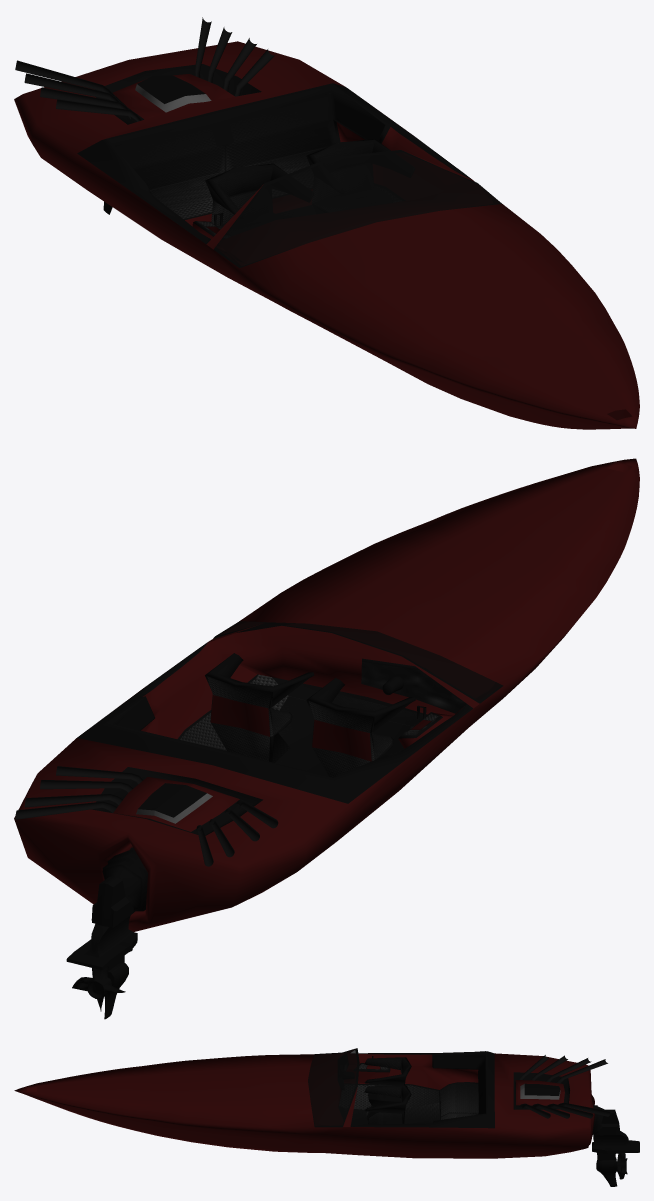
Rendered from sf_myspeedboat.glb.
3 renders of one model, top to bottom at view 1: azimuth 30°, elevation 25°; view 2: azimuth 150°, elevation 25°; view 3: azimuth 270°, elevation 25°, orthographic. The views are drawn at different scales.
Visible parts, largest first — view 1: BoatPChair_Paint2_0, BoatPChair_Seats_0, BoatPChair_ChromeRing_0, BoatWindshield_BoatGlass_0, BoatIOMotor_FlatBlack_0; view 2: BoatPChair_Paint2_0, BoatPChair_ChromeRing_0, BoatIOMotor_FlatBlack_0, BoatPChair_Seats_0, BoatInside_BoatFloor_0, BoatWindshield_BoatGlass_0, BoatInside_Material.015_0; view 3: BoatPChair_Paint2_0, BoatPChair_ChromeRing_0, BoatPChair_Seats_0, BoatWindshield_BoatGlass_0, BoatIOMotor_FlatBlack_0, BoatInside_BoatFloor_0, BoatInside_Material.015_0.
Boxes of the visible parts, x1,y1,x2,y2 form: BoatPChair_Paint2_0: (14,41,639,429); BoatPChair_Seats_0: (114,93,412,237); BoatPChair_ChromeRing_0: (15,17,501,267); BoatWindshield_BoatGlass_0: (215,152,500,266); BoatIOMotor_FlatBlack_0: (95,64,290,218); BoatPChair_Paint2_0: (14,458,639,931); BoatPChair_ChromeRing_0: (15,621,503,1011); BoatIOMotor_FlatBlack_0: (66,676,423,1019); BoatPChair_Seats_0: (116,653,437,777); BoatInside_BoatFloor_0: (180,674,427,776); BoatWindshield_BoatGlass_0: (215,621,501,700); BoatInside_Material.015_0: (361,662,466,735); BoatPChair_Paint2_0: (14,1049,595,1158); BoatPChair_ChromeRing_0: (311,1048,627,1179); BoatPChair_Seats_0: (359,1055,485,1124); BoatWindshield_BoatGlass_0: (308,1049,357,1126); BoatIOMotor_FlatBlack_0: (342,1057,639,1186); BoatInside_BoatFloor_0: (339,1084,439,1126); BoatInside_Material.015_0: (339,1055,388,1088).
Bounding box in the file's own units: 2.32 × 1.76 × 8.
Materials: 7 (6 with a texture image).
